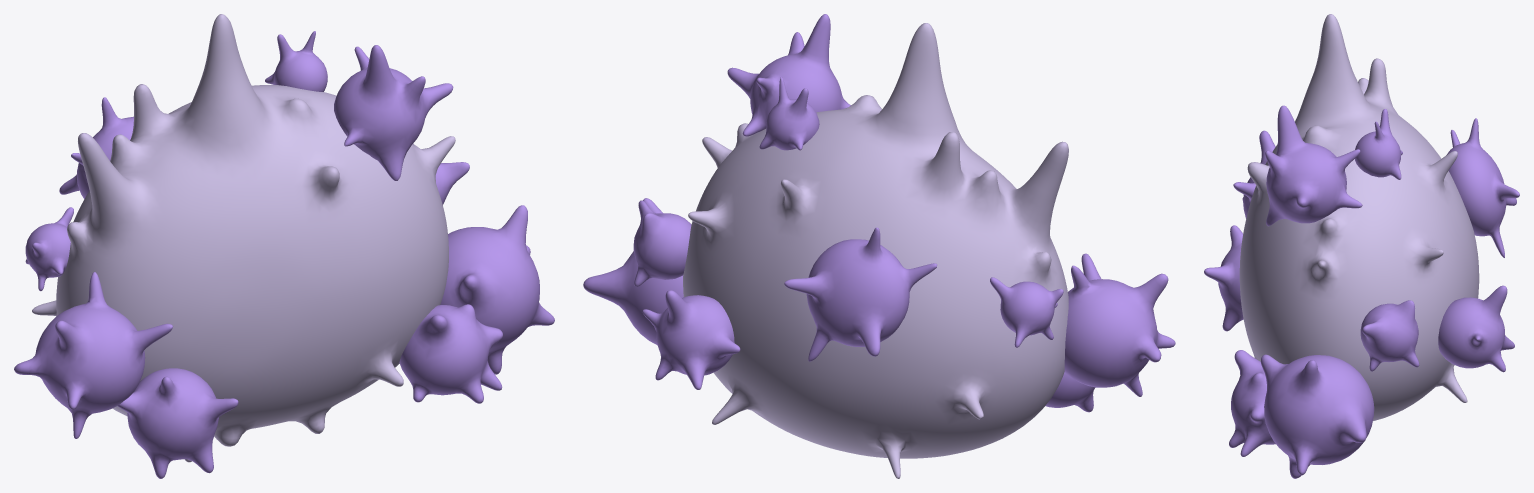
The model's file is nobounceenemy_lp.fbx.
3 renders of one model, left to right at view 1: azimuth 30°, elevation 25°; view 2: azimuth 150°, elevation 25°; view 3: azimuth 270°, elevation 25°, orthographic. The views are drawn at different scales.
Visible parts, largest first — view 1: mainouterjelly_low, outerjelly7_low, outerjelly1_low, outerjelly5_low, outerjelly6_low, outerjelly2_low, outerjelly4_low, outerjelly9_low, outerjelly8_low, outerjelly3_low; view 2: mainouterjelly_low, outerjelly8_low, outerjelly7_low, outerjelly10_low, outerjelly5_low, outerjelly1_low, outerjelly3_low, outerjelly4_low, outerjelly9_low, outerjelly6_low; view 3: mainouterjelly_low, outerjelly1_low, outerjelly5_low, outerjelly10_low, outerjelly8_low, outerjelly3_low, outerjelly2_low, outerjelly9_low, outerjelly6_low, outerjelly7_low.
Part boxes in pixels (box(x1,y1,x2,y2)): mainouterjelly_low: box(32, 14, 455, 462); outerjelly7_low: box(14, 272, 172, 438); outerjelly1_low: box(440, 205, 554, 374); outerjelly5_low: box(334, 45, 453, 180); outerjelly6_low: box(117, 368, 238, 478); outerjelly2_low: box(399, 304, 502, 403); outerjelly4_low: box(25, 207, 73, 291); outerjelly9_low: box(265, 31, 327, 91); outerjelly8_low: box(59, 97, 133, 198); outerjelly3_low: box(413, 143, 469, 204); mainouterjelly_low: box(683, 23, 1068, 478); outerjelly8_low: box(784, 227, 937, 361); outerjelly7_low: box(1064, 253, 1175, 396); outerjelly10_low: box(642, 290, 740, 389); outerjelly5_low: box(727, 14, 850, 136); outerjelly1_low: box(583, 198, 683, 345); outerjelly3_low: box(633, 200, 691, 286); outerjelly4_low: box(990, 277, 1063, 347); outerjelly9_low: box(759, 77, 819, 150); outerjelly6_low: box(1045, 372, 1095, 412); mainouterjelly_low: box(1239, 14, 1479, 420); outerjelly1_low: box(1260, 354, 1374, 478); outerjelly5_low: box(1265, 105, 1362, 226); outerjelly10_low: box(1438, 285, 1514, 372); outerjelly8_low: box(1446, 118, 1519, 257); outerjelly3_low: box(1360, 300, 1419, 371); outerjelly2_low: box(1229, 350, 1275, 456); outerjelly9_low: box(1355, 109, 1402, 179); outerjelly6_low: box(1204, 225, 1243, 331); outerjelly7_low: box(1233, 130, 1275, 218).
Bounding box in the file's own units: 1.53 × 1.13 × 0.8781.
